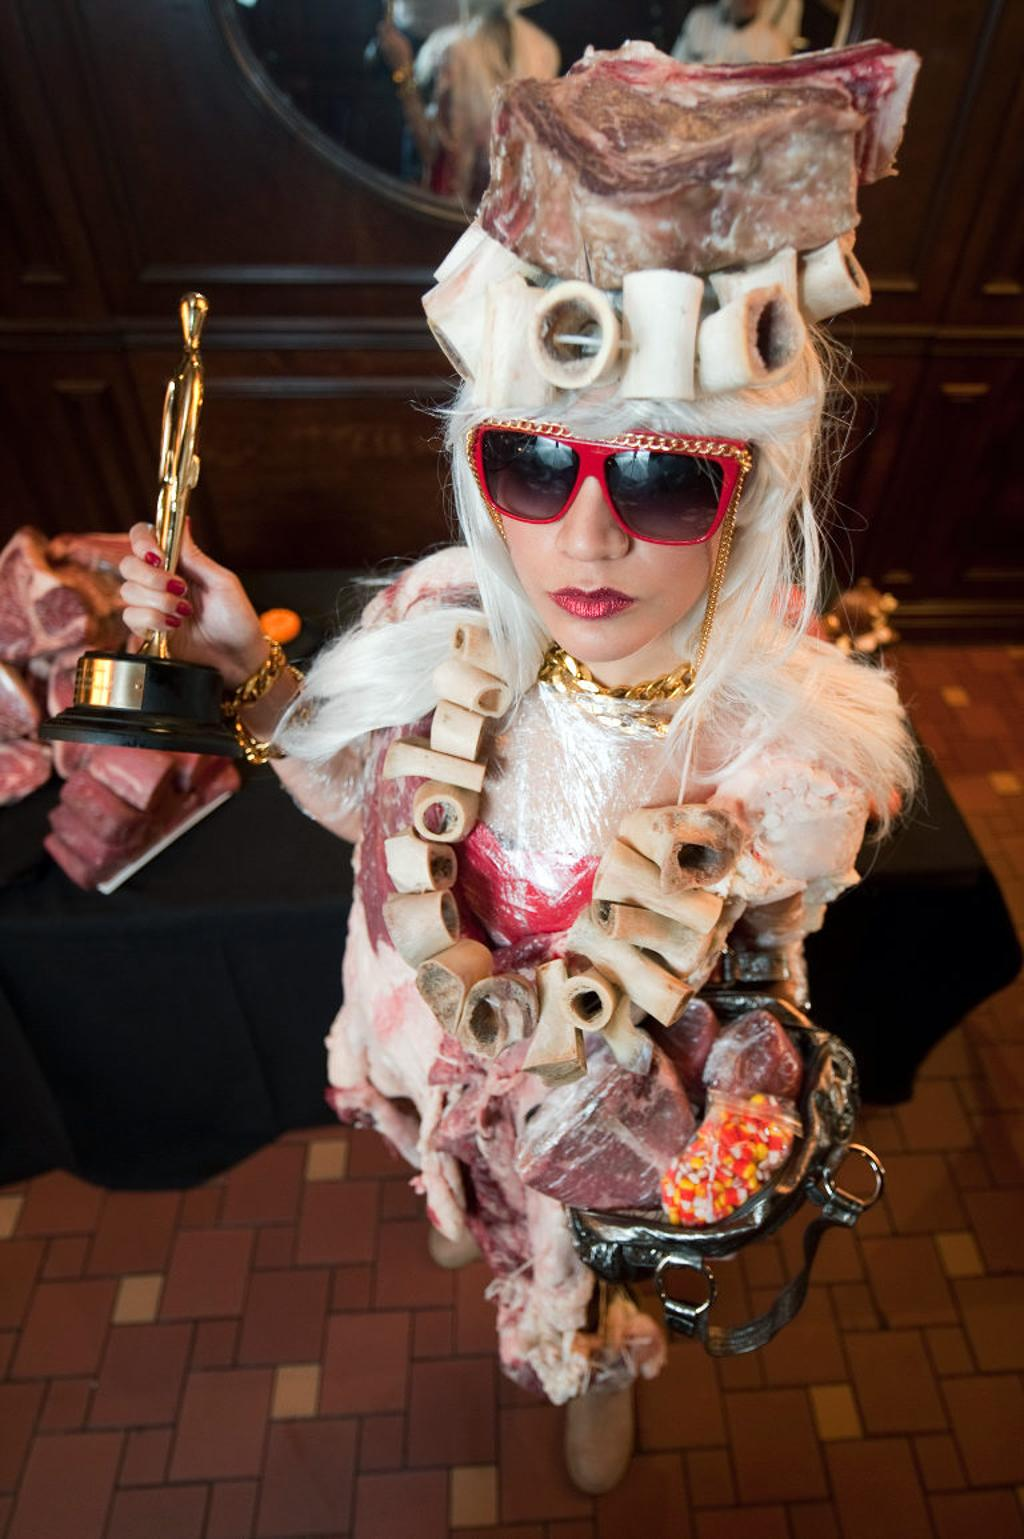face: (495, 348, 720, 651)
